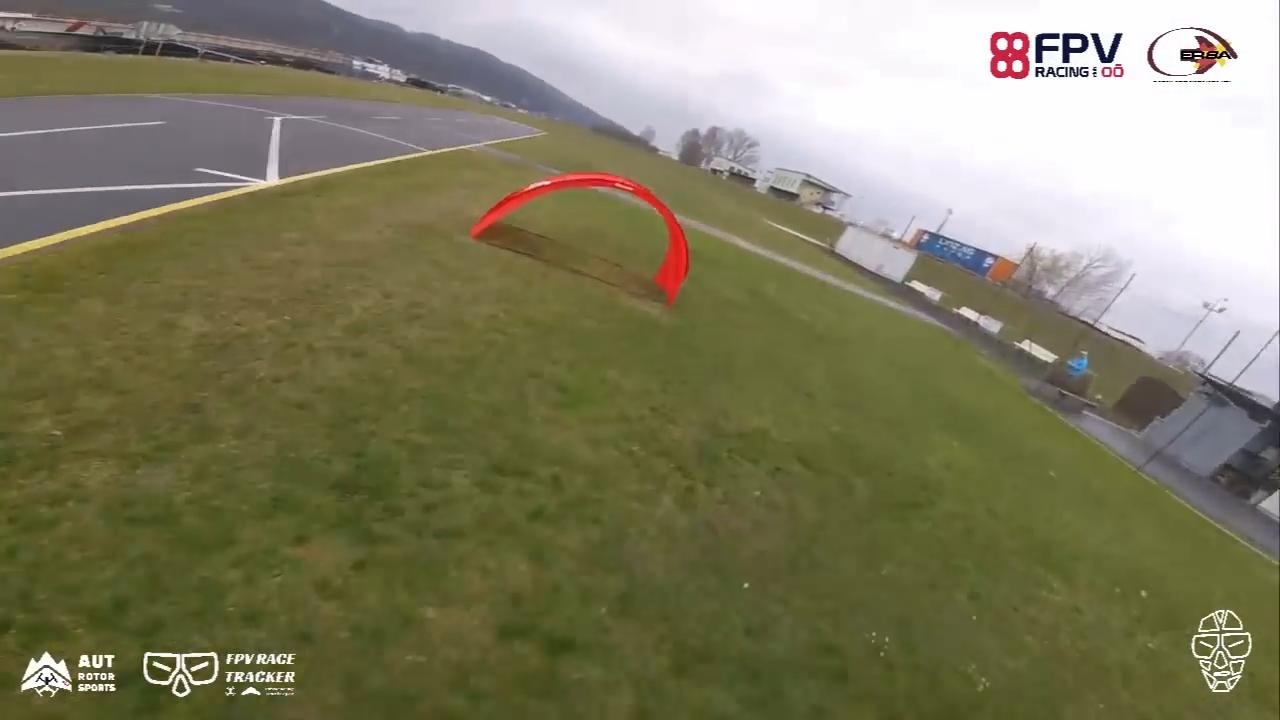gate: (467, 168, 693, 313)
